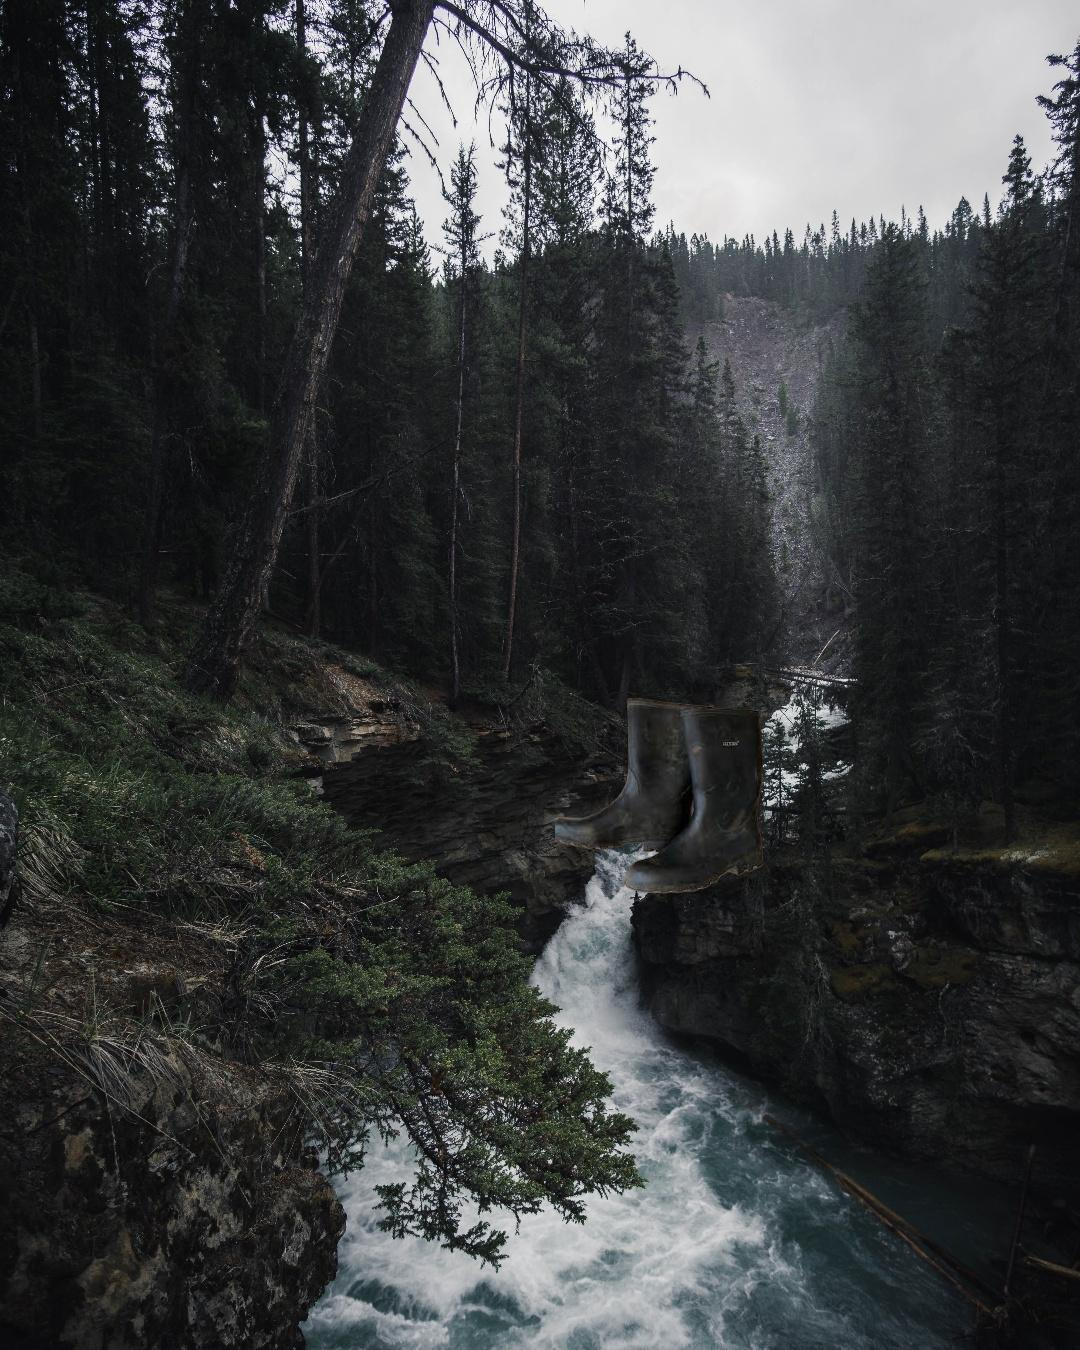shoes: (555, 695, 766, 896)
